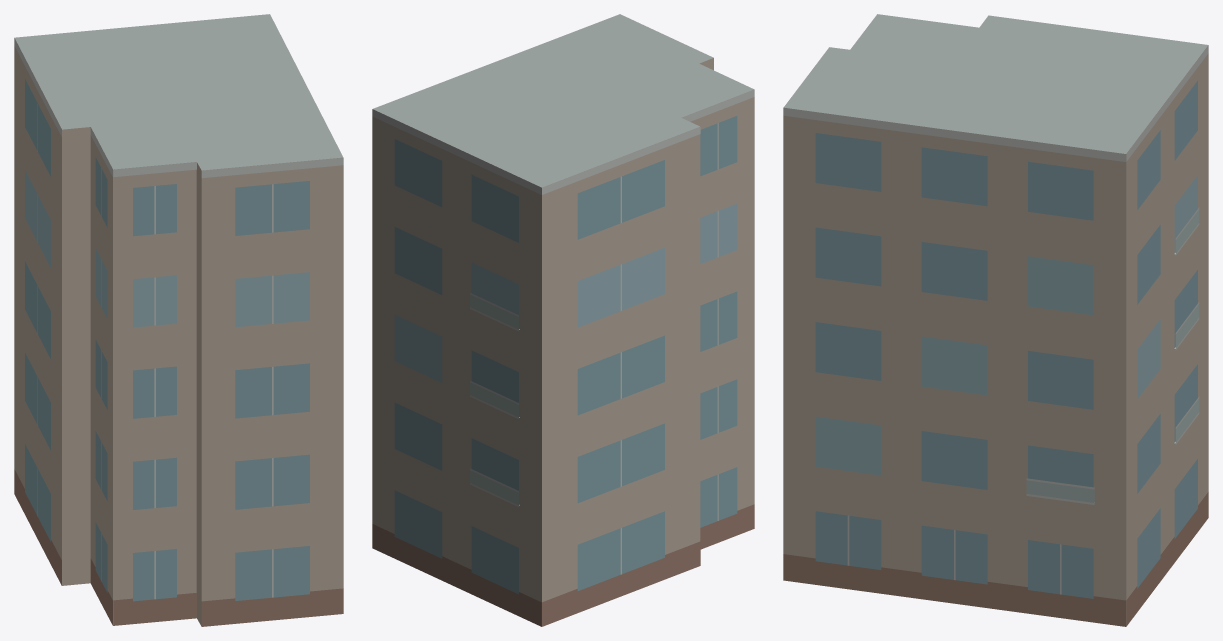
Rendered from survey-upis-32708251.glb.
3 views of the same model, side by side, from view 1: azimuth 30°, elevation 25°; view 2: azimuth 150°, elevation 25°; view 3: azimuth 270°, elevation 25° (orthographic). The views are drawn at different scales.
Parts seen in each view (by area): view 1: survey-upis-32708251.tmp; view 2: survey-upis-32708251.tmp; view 3: survey-upis-32708251.tmp.
Boxes of the visible parts, x1,y1,x2,y2 form: survey-upis-32708251.tmp: (14, 14, 343, 626); survey-upis-32708251.tmp: (372, 14, 754, 626); survey-upis-32708251.tmp: (783, 14, 1208, 626).
Bounding box in the file's own units: 9.16 × 14.4 × 11.75.
